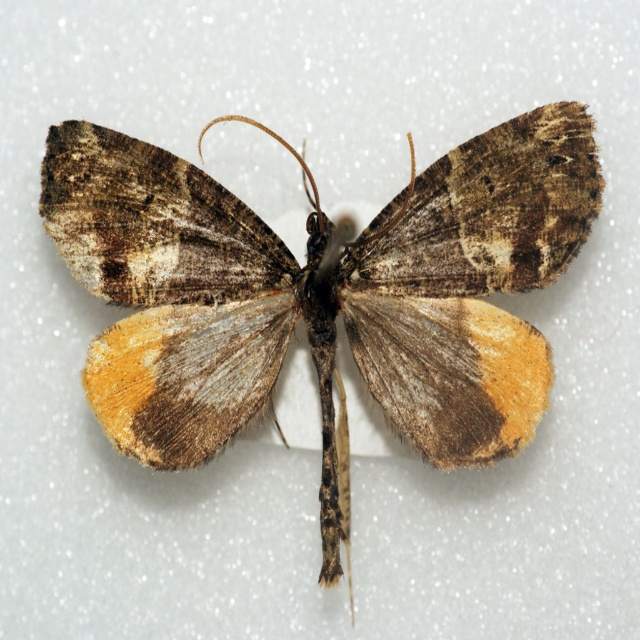Moths and butterflies: (36, 97, 611, 626)
